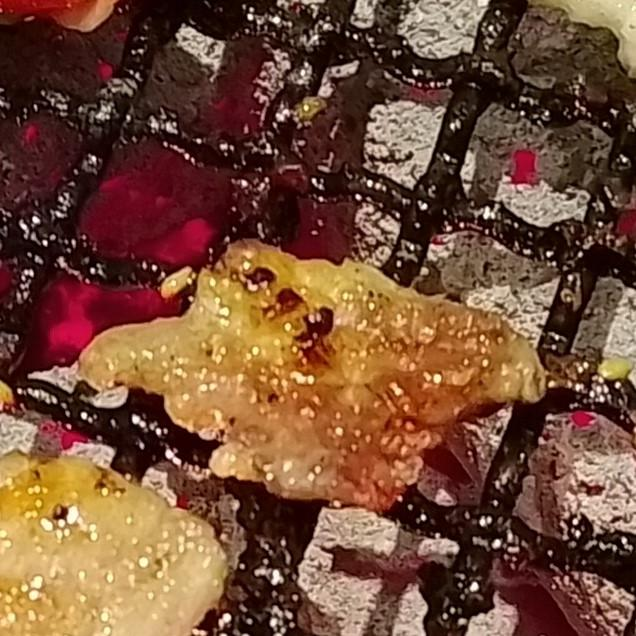Well-Cooked: (80, 240, 547, 516), (0, 416, 229, 635)
